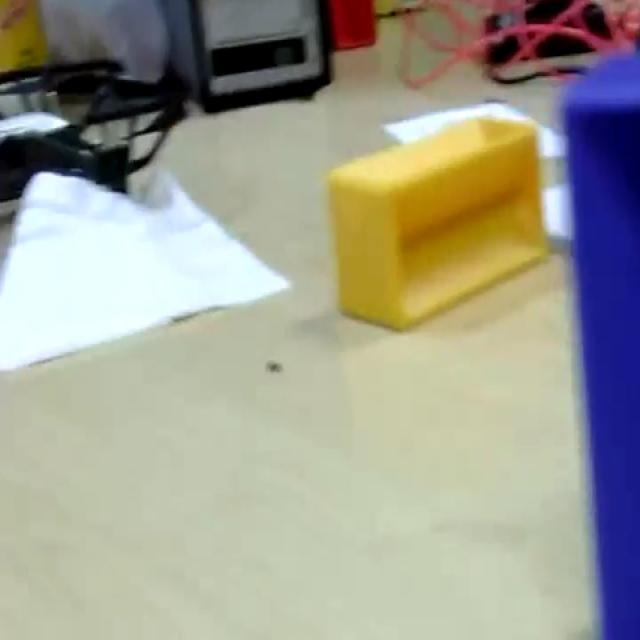blue_block: (559, 51, 638, 636)
yellow_block: (326, 105, 550, 331)
